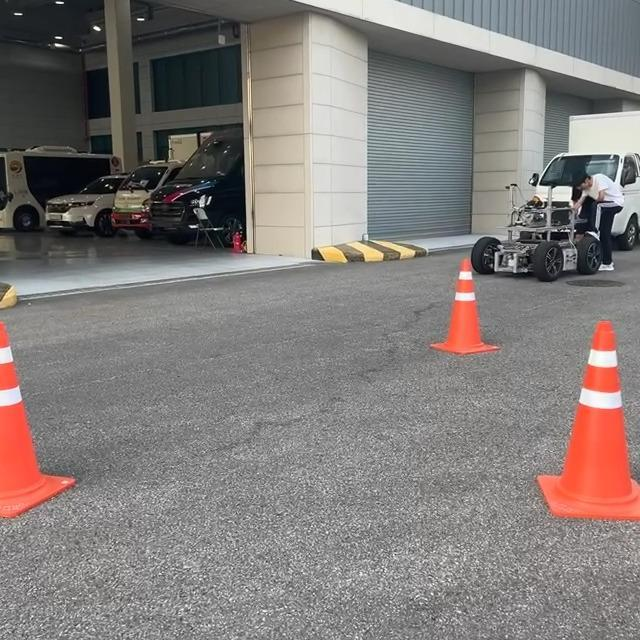fallen_object: (497, 285, 638, 557), (0, 270, 116, 558), (406, 216, 496, 383)
